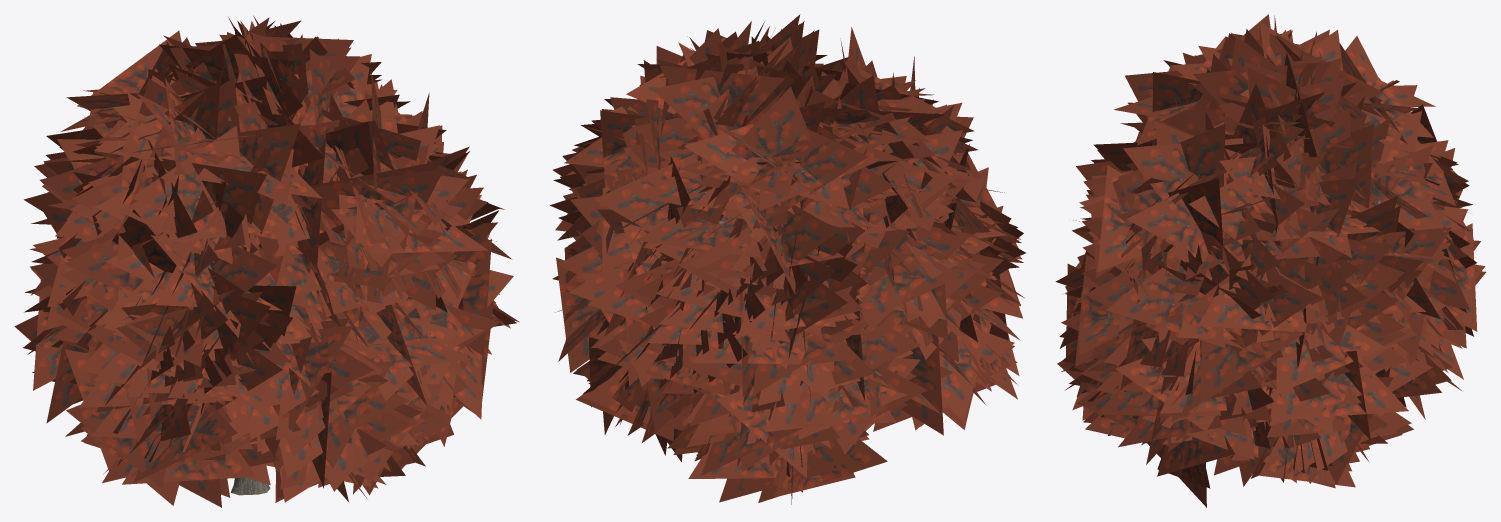
The model's file is Quercus_Alba_Autumn_Adult.glb.
3 renders of one model, left to right at view 1: azimuth 30°, elevation 25°; view 2: azimuth 150°, elevation 25°; view 3: azimuth 270°, elevation 25°, orthographic. The views are drawn at different scales.
Parts seen in each view (by area): view 1: Quercus_Alba_Autumn_Adult__LOD3; view 2: Quercus_Alba_Autumn_Adult__LOD3; view 3: Quercus_Alba_Autumn_Adult__LOD3.
Boxes of the visible parts, x1,y1,x2,y2 form: Quercus_Alba_Autumn_Adult__LOD3: (14, 15, 519, 507); Quercus_Alba_Autumn_Adult__LOD3: (550, 14, 1025, 504); Quercus_Alba_Autumn_Adult__LOD3: (1055, 14, 1486, 507).
Size of the model in its own units: 28.12 by 28.37 by 25.79.
2 materials, 2 textured.
